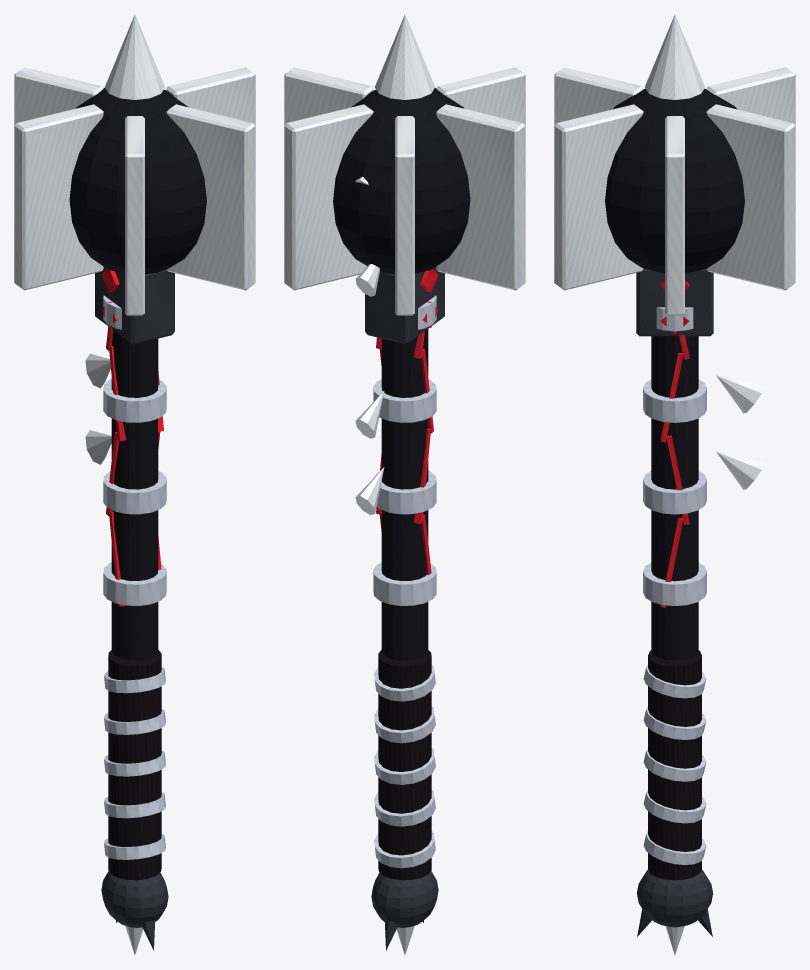
The model's file is CataclysmMaw.obj.
The picture shows the model from 3 angles, left to right: view 1: azimuth 30°, elevation 25°; view 2: azimuth 150°, elevation 25°; view 3: azimuth 270°, elevation 25°; orthographic projection.
Parts seen in each view (by area): view 1: CataclysmMaw; view 2: CataclysmMaw; view 3: CataclysmMaw.
Part boxes in pixels (<box>): CataclysmMaw: <box>14,14,255,954</box>; CataclysmMaw: <box>284,14,525,954</box>; CataclysmMaw: <box>554,14,795,954</box>.
Bounding box in the file's own units: 1.6 × 6.17 × 1.43.
Materials: 1 (1 with a texture image).
